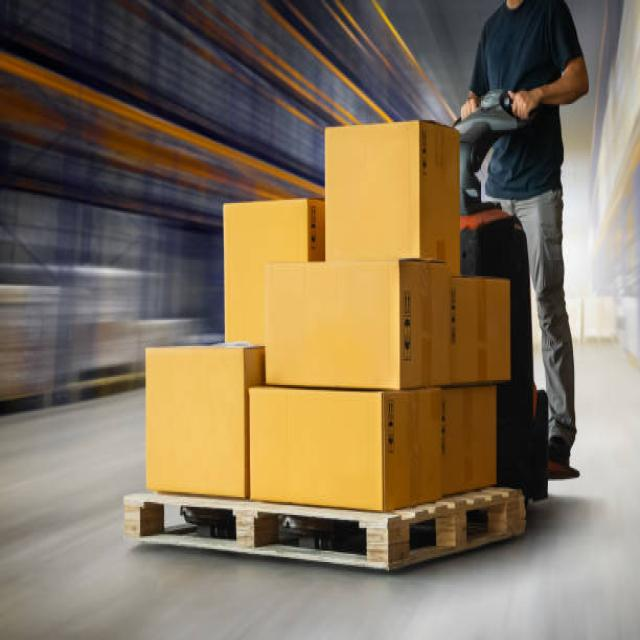Wooden-Pallets: (115, 486, 524, 583)
